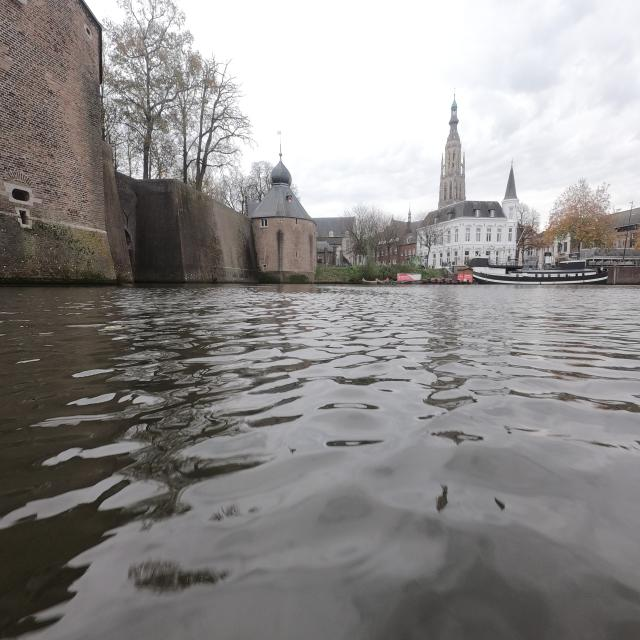boat: (473, 266, 607, 284)
grass: (315, 263, 444, 283)
sky: (176, 4, 638, 218)
wall: (114, 164, 320, 284)
water: (12, 290, 632, 634)
